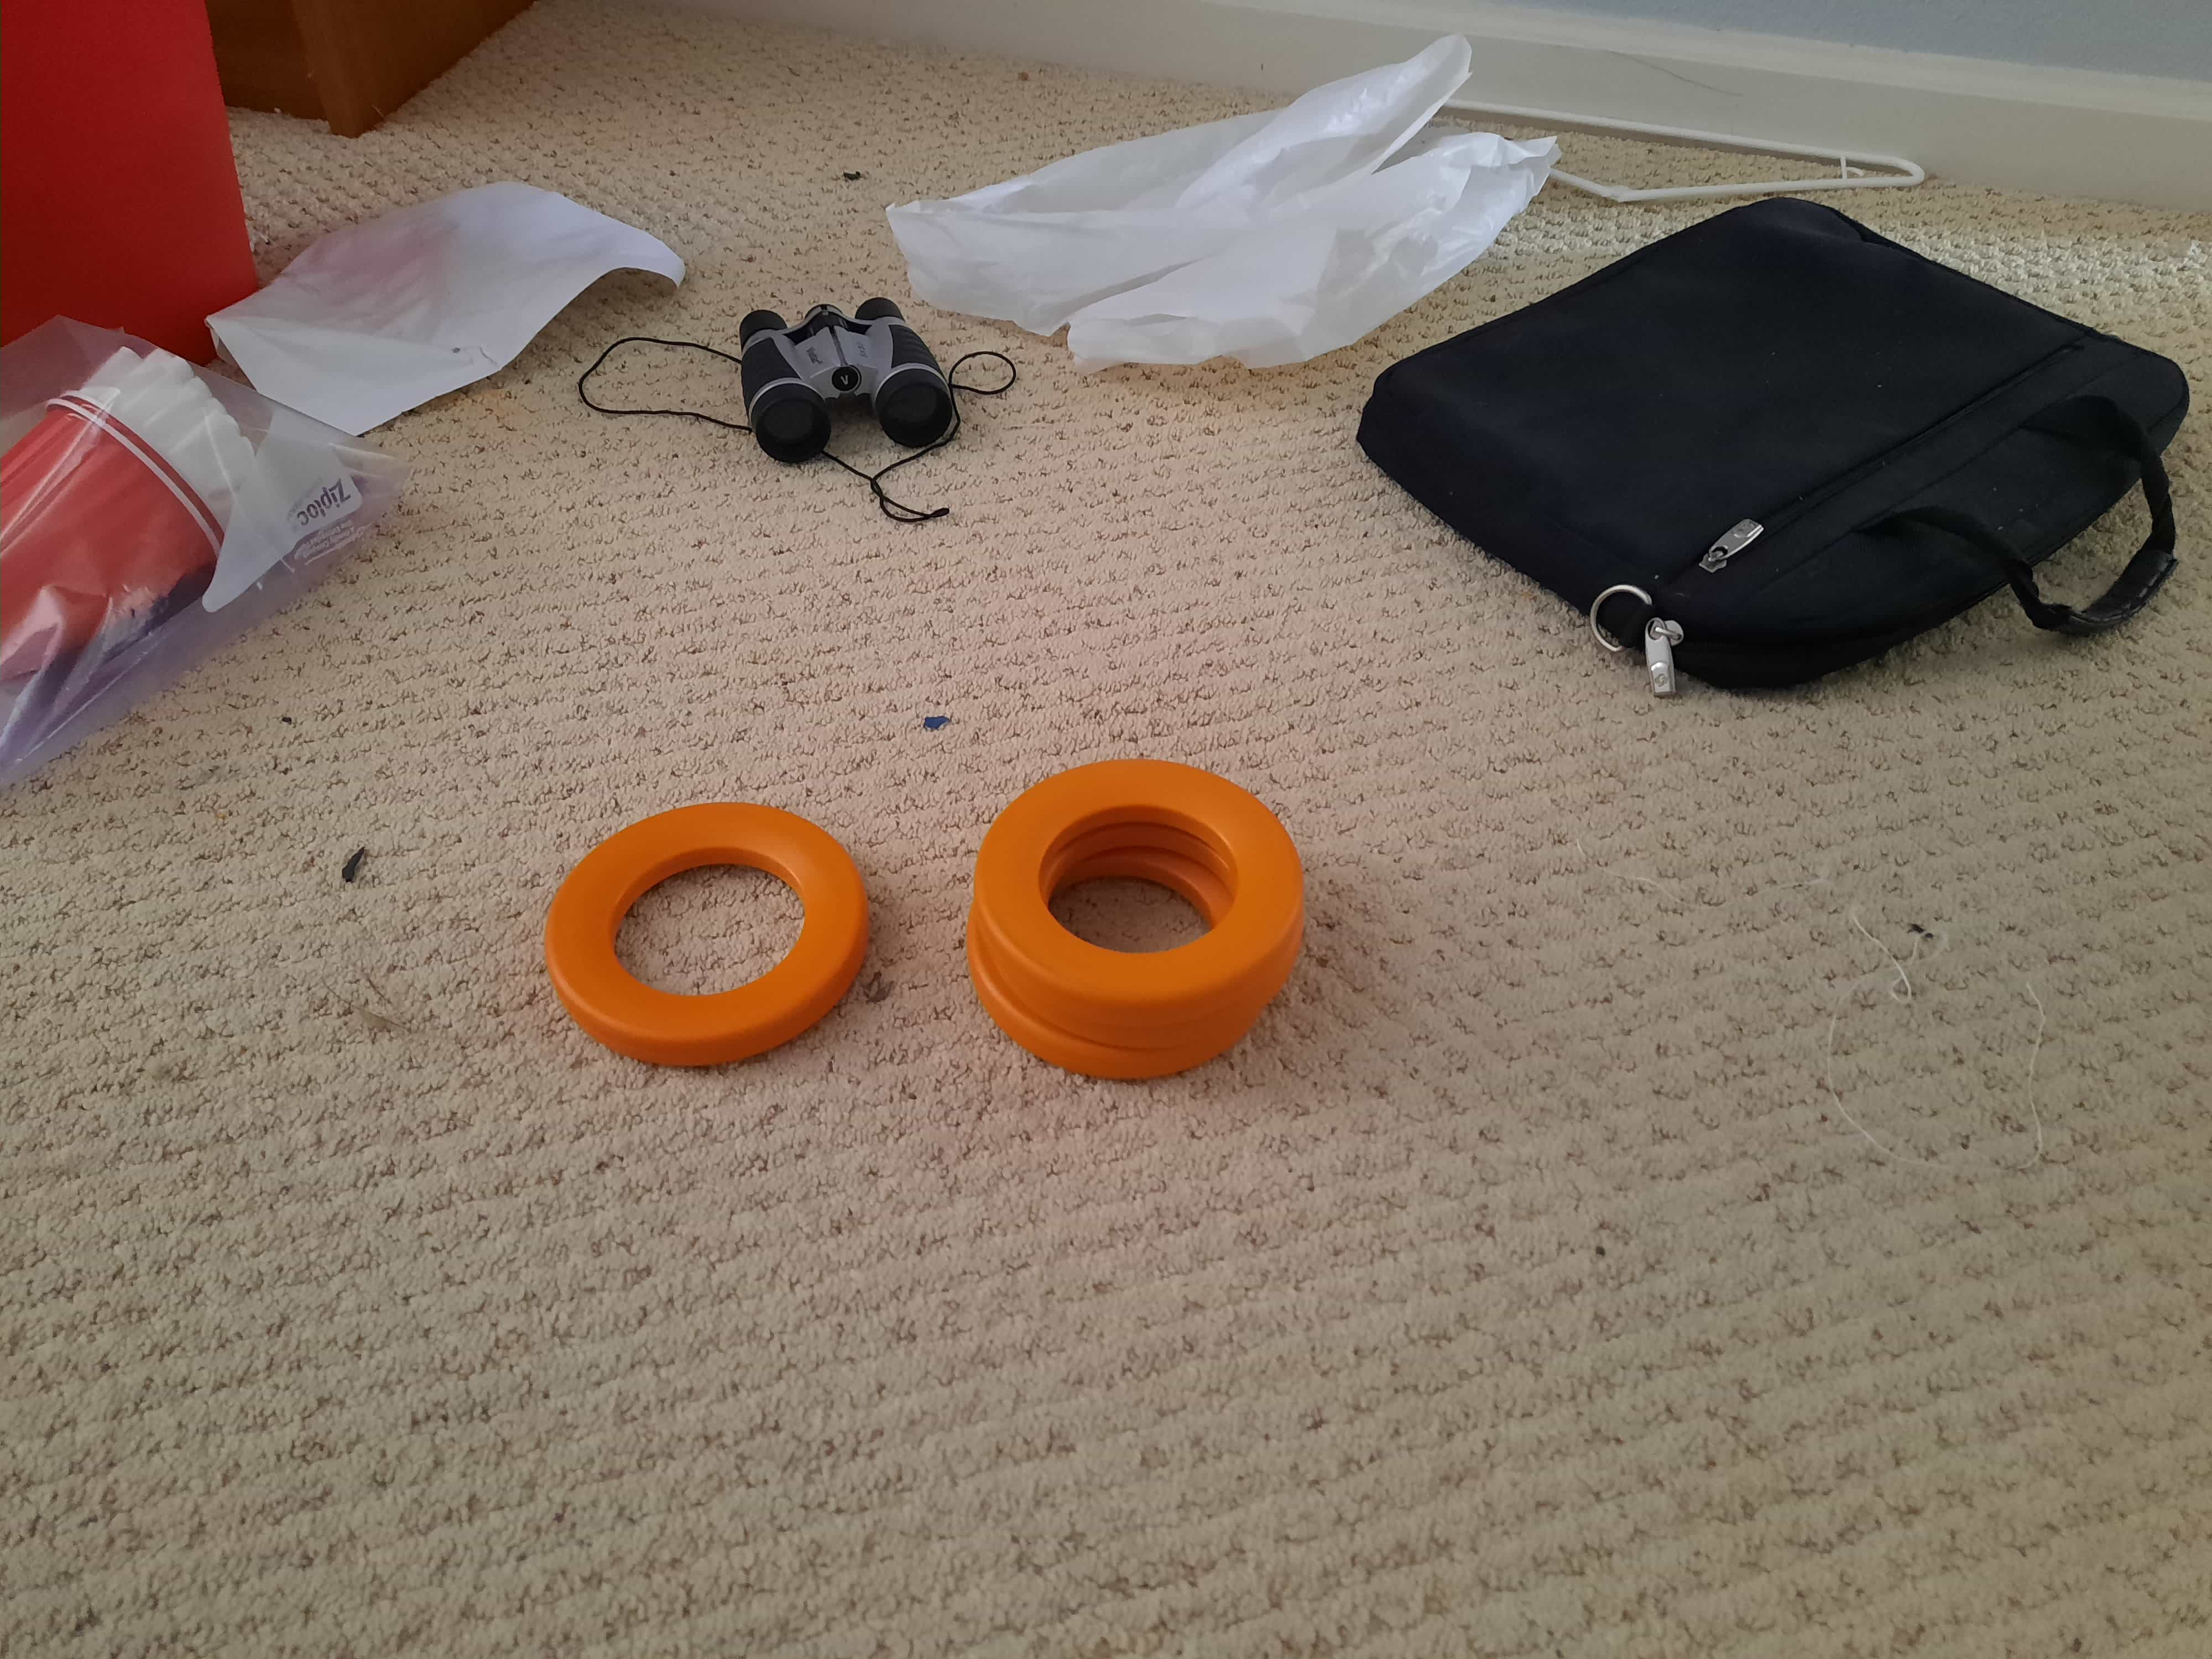FourStack: (963, 765, 1303, 1072)
OneStack: (543, 795, 867, 1042)
